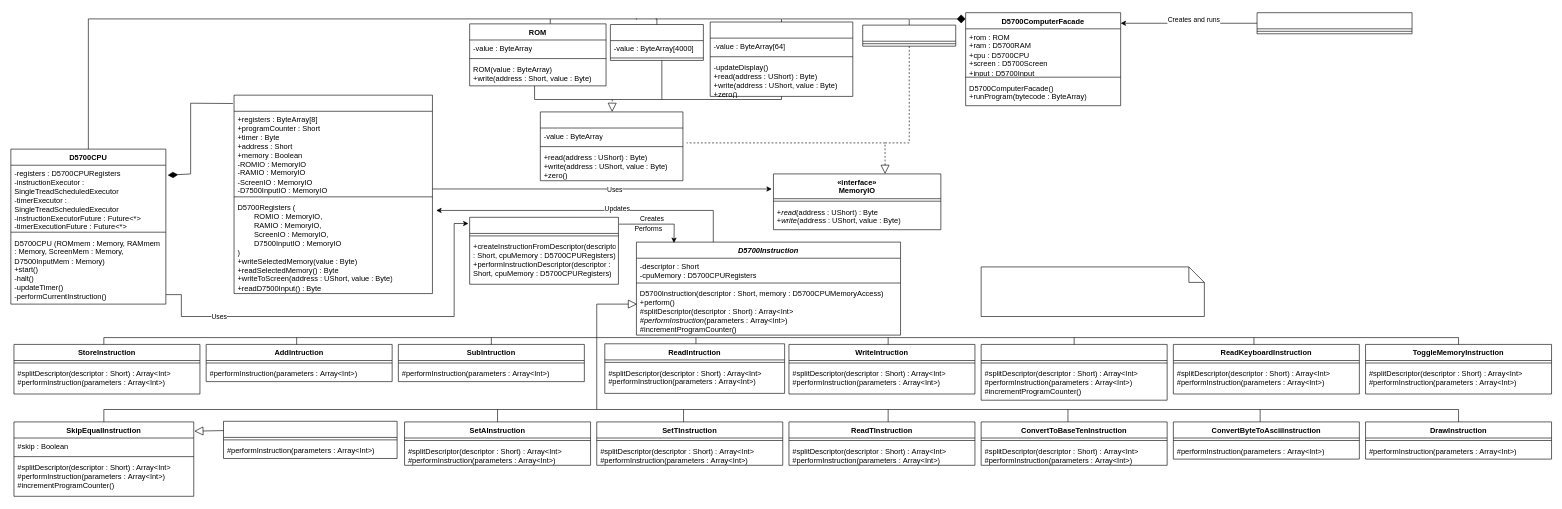
Some shapes in this 1562 by 509 pixel diagram are drawn without their labels. The shapes that lost their labels are listed below. From the top down, each one's box as (x1, y1, x2, y2) in pixels, then its label:
(610, 24, 703, 60): D5700RAM
(862, 24, 956, 46): D7500Input
(1256, 12, 1412, 34): Main
(710, 21, 853, 96): D5700Screen
(540, 111, 683, 181): Memory
(233, 95, 432, 294): D5700CPUMemoryAccess
(469, 217, 618, 284): D5700InstructionFactory
(981, 266, 1204, 317): Template Method Pattern
(981, 344, 1167, 400): JumpIntruction
(223, 421, 397, 458): SkipNotEqualInstruction
